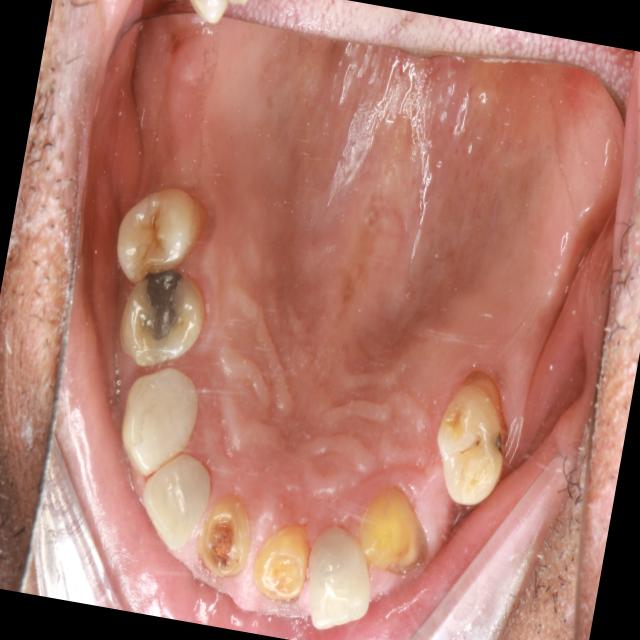tooth: (419, 362, 527, 517), (105, 357, 215, 503), (104, 256, 217, 392), (102, 170, 213, 308), (287, 506, 394, 640), (129, 439, 224, 568), (347, 471, 442, 600), (241, 508, 323, 617), (187, 485, 262, 596)
